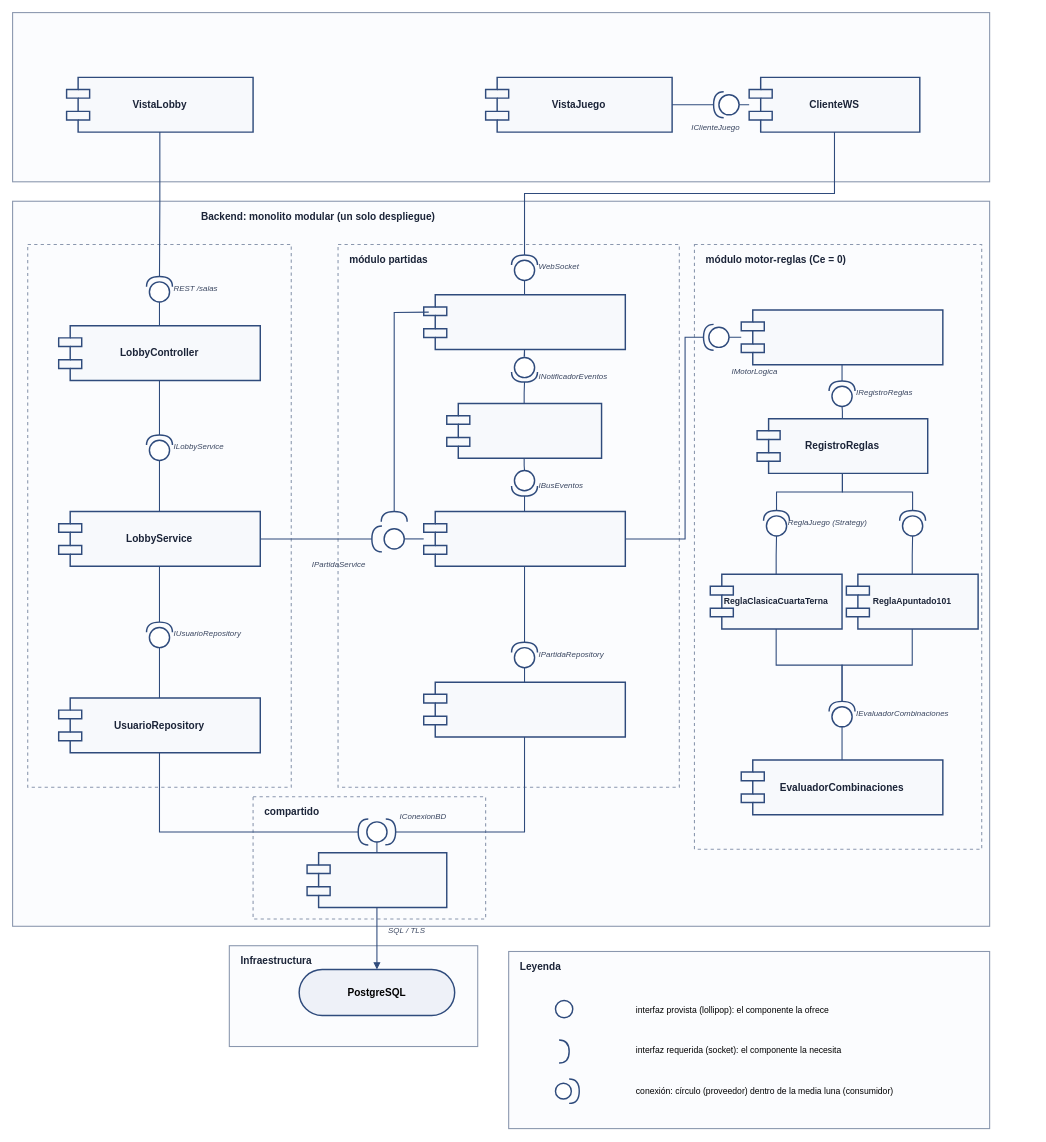
Some shapes in this 1046 by 1142 pixel diagram are drawn without their labels. The shapes that lost their labels are listed below. From the top down, each one's box as (x1, y1, x2, y2) in pixels, then its label:
(12, 12, 990, 182): Frontend (aplicación web SPA)
(423, 294, 626, 350): PartidaGateway
(740, 309, 943, 365): MotorLogicaJuego
(446, 402, 602, 459): BusEventos
(27, 244, 291, 788): módulo lobby
(423, 510, 626, 567): PartidaService
(423, 681, 626, 737): PartidaRepository
(306, 852, 447, 908): ConexionBD
